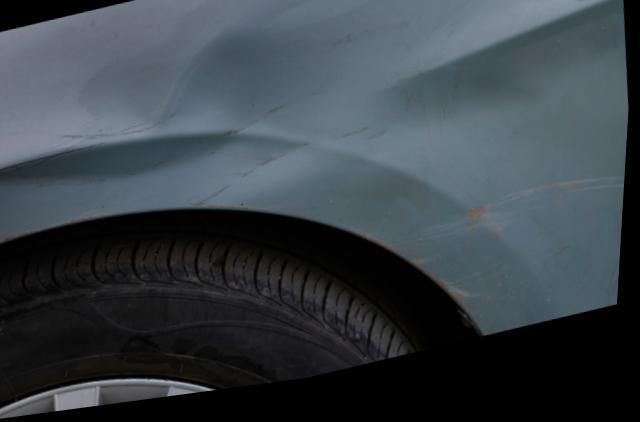dent: (0, 0, 631, 309)
